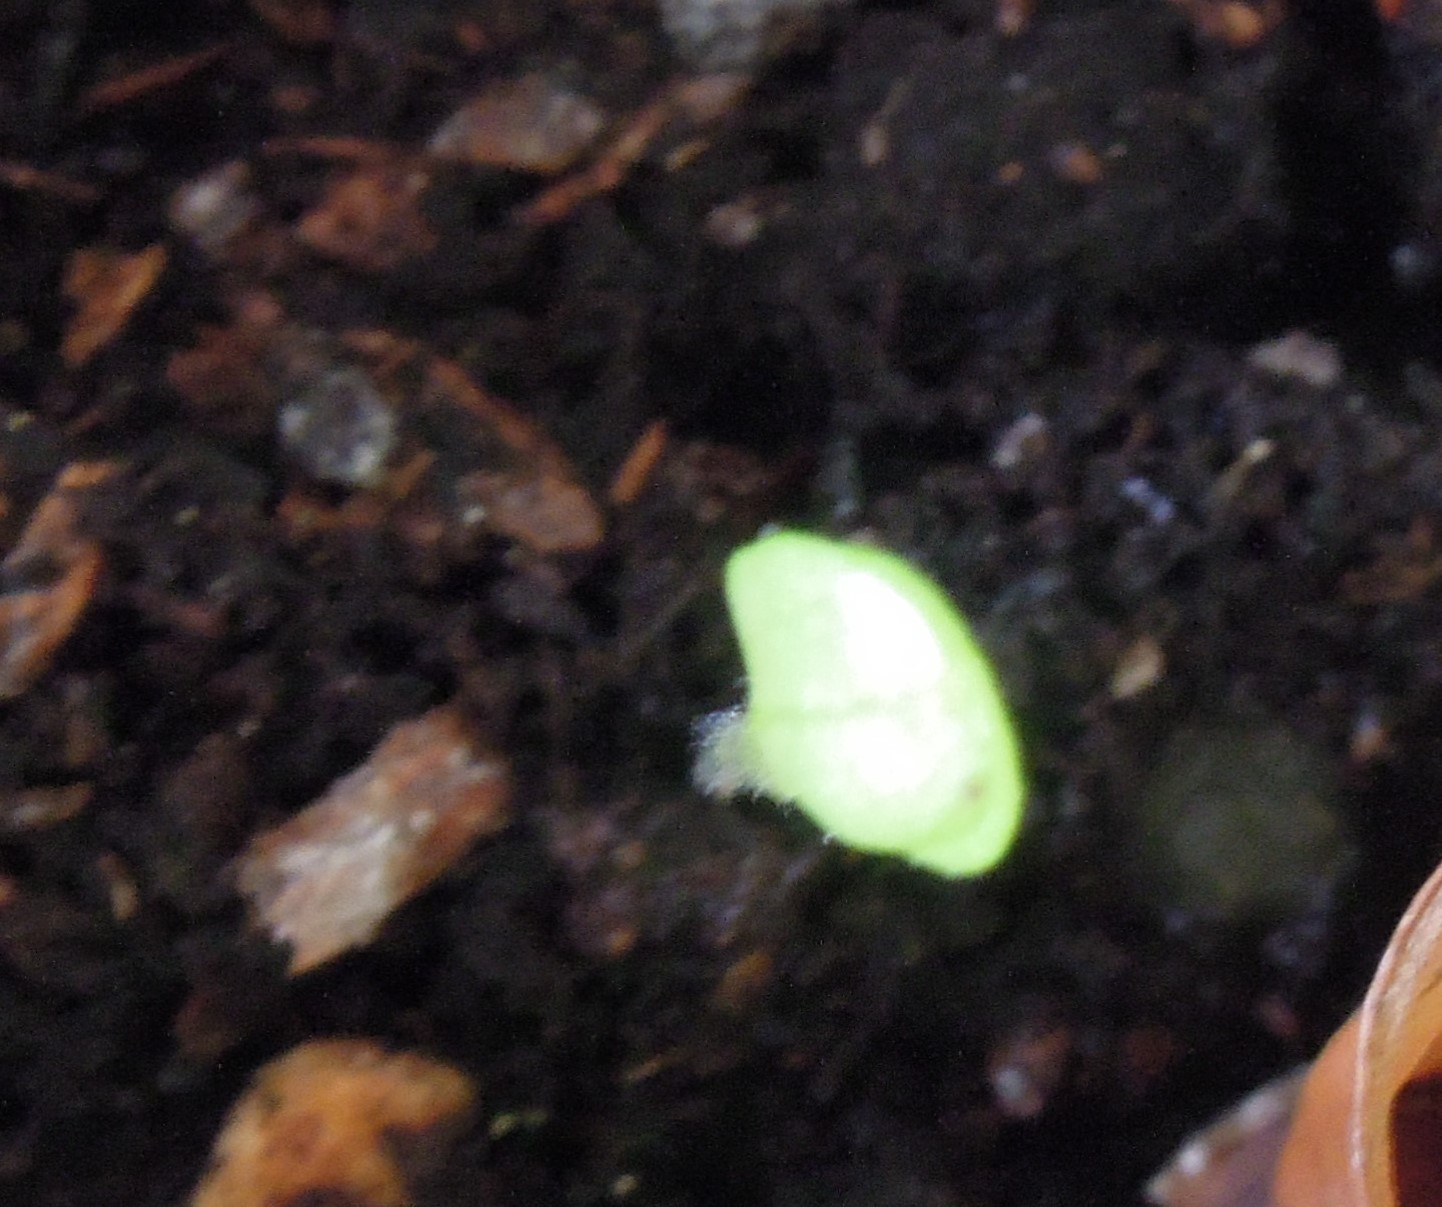week1: (632, 432, 1138, 932)
